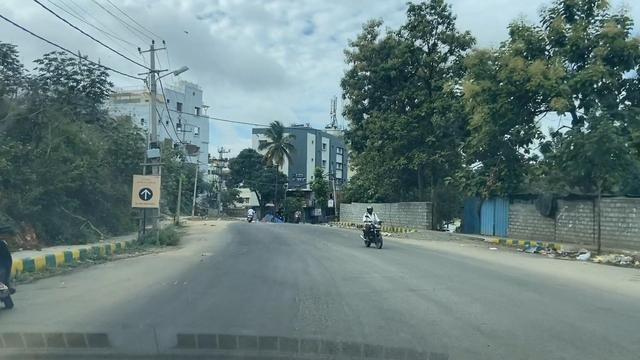RoadDamages: (149, 273, 201, 304)
